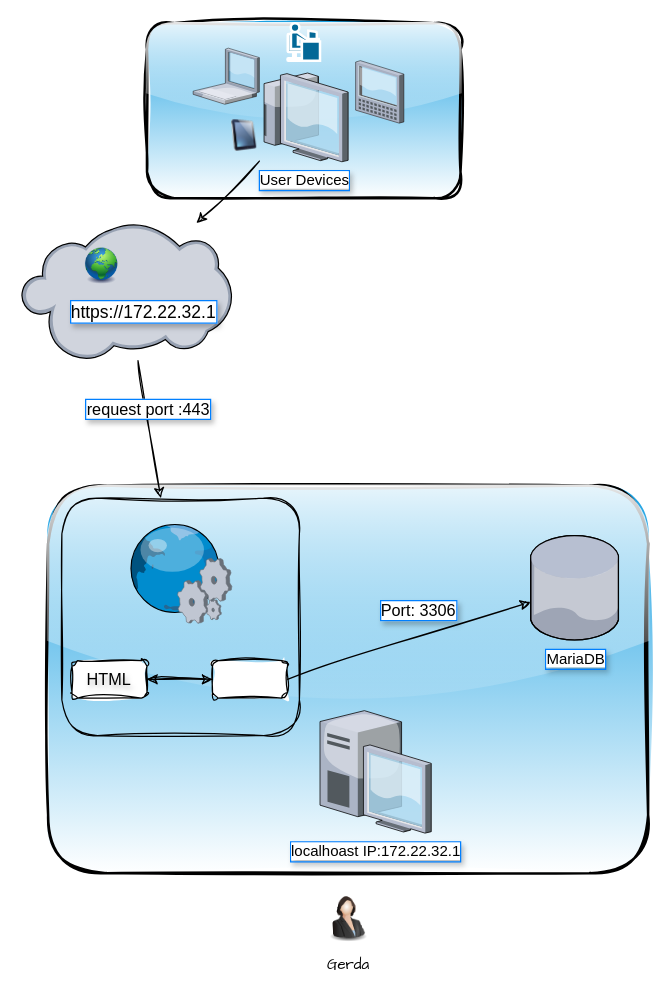
Image size: 671x995. Some labels were removed from this diagram. Here are the shapes that lost their labels. From the top down, the centre of each, then its label:
At pixel 178 572: "Apache".
At pixel 249 678: "PHP".
